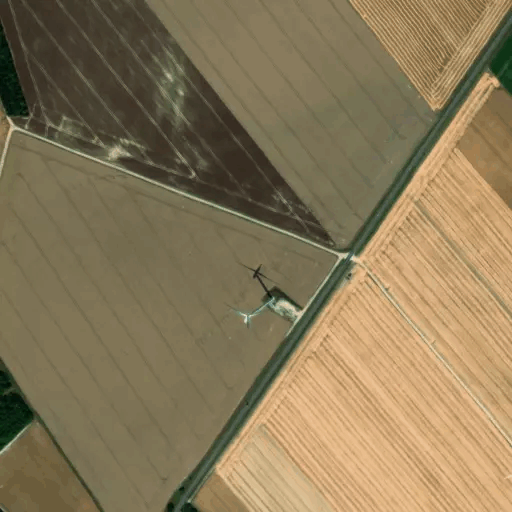wt: (218, 256, 304, 335)
